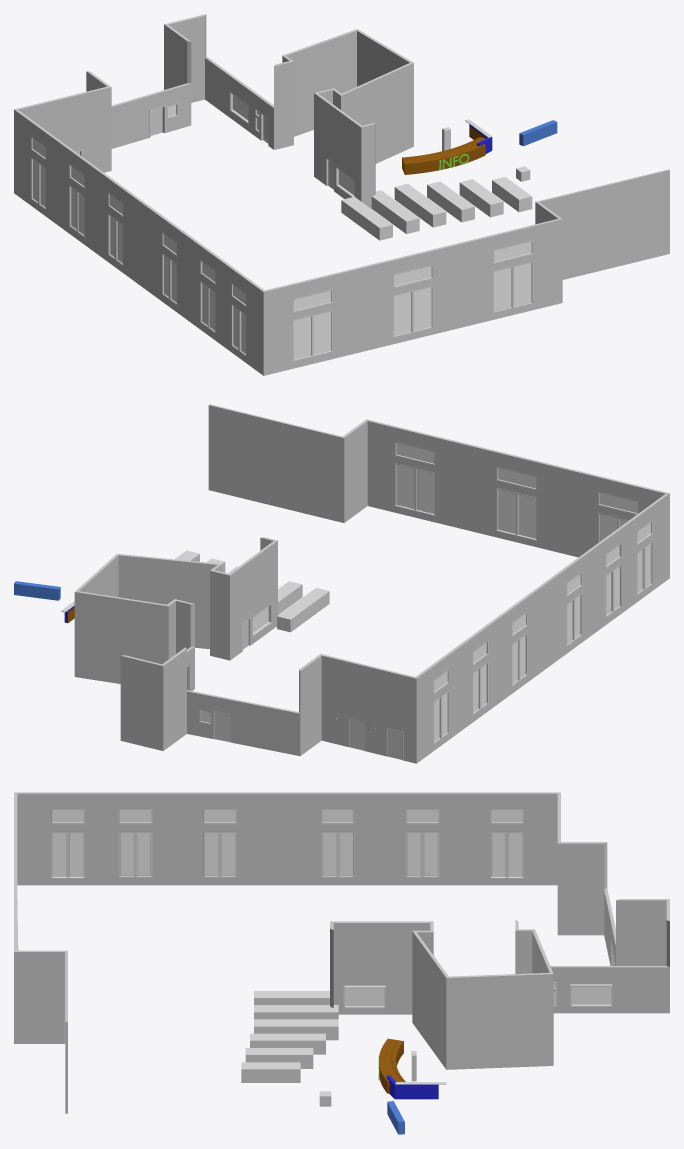
The model's file is Library.glb.
The picture shows the model from 3 angles, top to bottom: view 1: azimuth 30°, elevation 25°; view 2: azimuth 150°, elevation 25°; view 3: azimuth 270°, elevation 25°; orthographic projection. The views are drawn at different scales.
Visible parts, largest first — view 1: Wall Mesh.004, Wall Mesh.006, Wall Mesh.001, Wall Mesh.005, Wall Mesh.009, Wall Mesh.018, Wall Mesh.029, Wall Mesh.003, Wall Mesh.012, Cube.009, Wall Mesh.014, Wall Mesh.021 (+13 smaller); view 2: Wall Mesh.006, Wall Mesh.004, Wall Mesh.001, Wall Mesh.009, Wall Mesh.018, Wall Mesh.005, Wall Mesh.003, Wall Mesh.008, Wall Mesh.029, Wall Mesh.007, Wall Mesh.002, Wall Mesh.011 (+9 smaller); view 3: Wall Mesh.006, Wall Mesh.021, Wall Mesh.029, Wall Mesh.002, Wall Mesh.011, Wall Mesh.012, Wall Mesh.007, Wall Mesh.005, Cube.009, Cube.002, Window Insert.005, Window Insert.010 (+15 smaller).
Part boxes in pixels (x1,y1,x2,y2): Wall Mesh.004: [263, 218, 562, 375]; Wall Mesh.006: [14, 109, 264, 375]; Wall Mesh.001: [535, 169, 669, 279]; Wall Mesh.005: [341, 62, 413, 163]; Wall Mesh.009: [15, 86, 111, 172]; Wall Mesh.018: [282, 29, 357, 136]; Wall Mesh.029: [314, 93, 361, 201]; Wall Mesh.003: [111, 83, 191, 148]; Wall Mesh.012: [205, 56, 273, 149]; Cube.009: [402, 124, 492, 174]; Wall Mesh.014: [274, 61, 293, 149]; Wall Mesh.021: [357, 29, 413, 86]; Wall Mesh.006: [415, 493, 669, 763]; Wall Mesh.004: [367, 419, 669, 557]; Wall Mesh.001: [208, 404, 344, 522]; Wall Mesh.009: [321, 654, 416, 763]; Wall Mesh.018: [74, 591, 168, 683]; Wall Mesh.005: [117, 553, 221, 649]; Wall Mesh.003: [187, 690, 300, 755]; Wall Mesh.008: [120, 655, 163, 750]; Wall Mesh.029: [229, 540, 277, 660]; Wall Mesh.007: [162, 647, 186, 750]; Wall Mesh.002: [343, 419, 367, 522]; Wall Mesh.011: [299, 654, 321, 755]; Wall Mesh.006: [15, 792, 559, 885]; Wall Mesh.021: [446, 972, 553, 1069]; Wall Mesh.029: [330, 921, 433, 1014]; Wall Mesh.002: [14, 950, 67, 1043]; Wall Mesh.011: [557, 842, 607, 935]; Wall Mesh.012: [550, 966, 669, 1013]; Wall Mesh.007: [616, 899, 669, 965]; Wall Mesh.005: [412, 931, 448, 1069]; Cube.009: [379, 1038, 438, 1099]; Cube.002: [254, 1019, 338, 1040]; Window Insert.005: [491, 833, 522, 876]; Window Insert.010: [52, 833, 83, 876].
Bounding box in the file's own units: 35.14 × 6.36 × 38.85.
10 materials, 2 textured.
